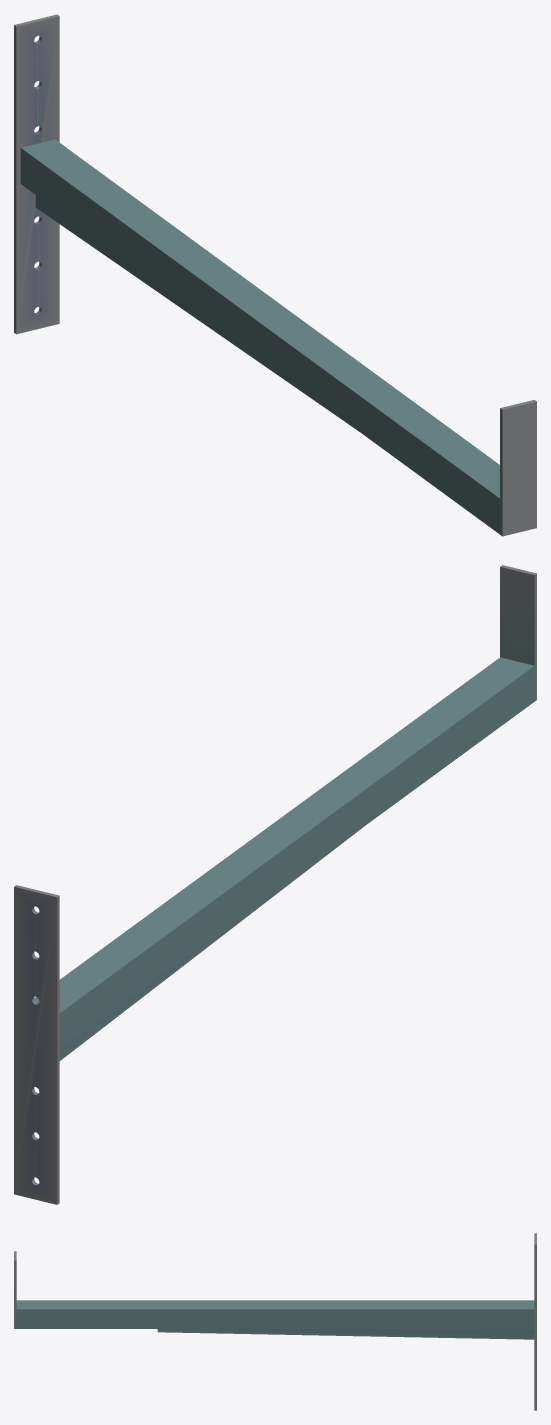
3 renders of one model, top to bottom at view 1: azimuth 30°, elevation 25°; view 2: azimuth 150°, elevation 25°; view 3: azimuth 270°, elevation 25°, orthographic. The views are drawn at different scales.
Parts seen in each view (by area): view 1: bar, tall_plate, short_plate; view 2: bar, tall_plate, short_plate; view 3: bar, tall_plate, short_plate.
Part boxes in pixels (box(x1,y1,x2,y2)): bar: box(20, 139, 499, 534); tall_plate: box(14, 14, 59, 334); short_plate: box(500, 400, 536, 536); bar: box(34, 657, 534, 1060); tall_plate: box(14, 885, 59, 1204); short_plate: box(500, 565, 536, 701); bar: box(16, 1300, 534, 1339); tall_plate: box(534, 1233, 536, 1410); short_plate: box(14, 1251, 16, 1328).
Bounding box in the file's own units: 0.1029 × 0.6997 × 2.
